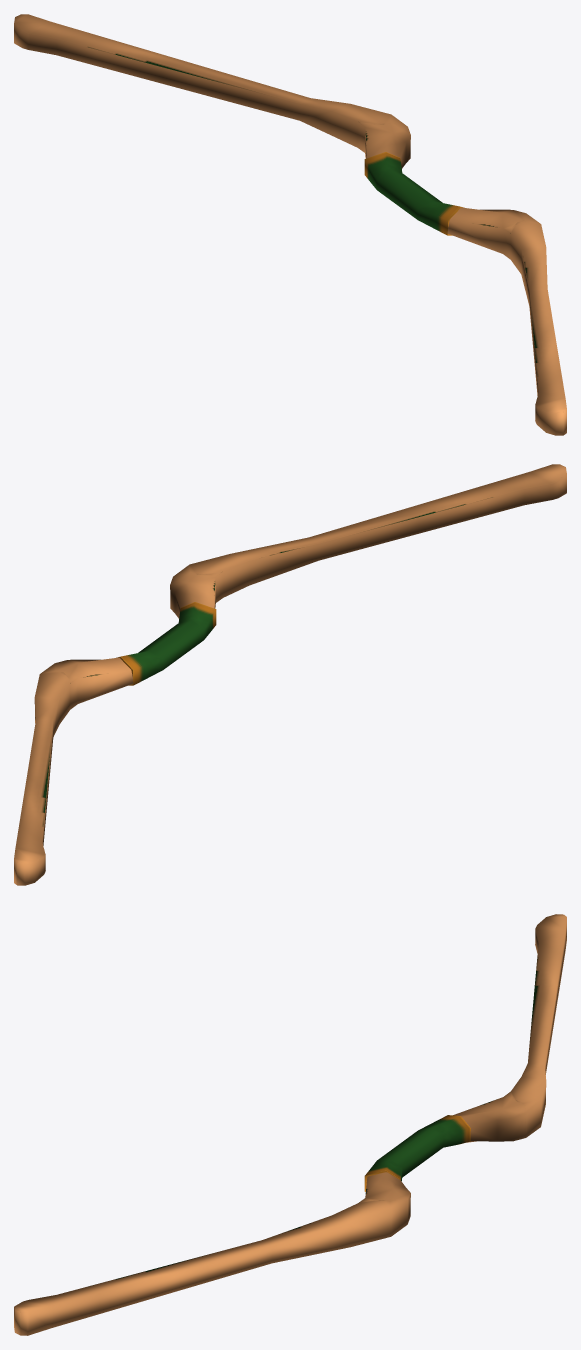
Rendered from Bow.fbx.
3 renders of one model, top to bottom at view 1: azimuth 30°, elevation 25°; view 2: azimuth 150°, elevation 25°; view 3: azimuth 330°, elevation 25°, orthographic.
Visible parts, largest first — view 1: Bow; view 2: Bow; view 3: Bow.
Boxes of the visible parts, x1,y1,x2,y2 form: Bow: (14, 14, 566, 435); Bow: (14, 464, 566, 885); Bow: (14, 914, 566, 1335).
Bounding box in the file's own units: 13.63 × 2.04 × 68.38.
